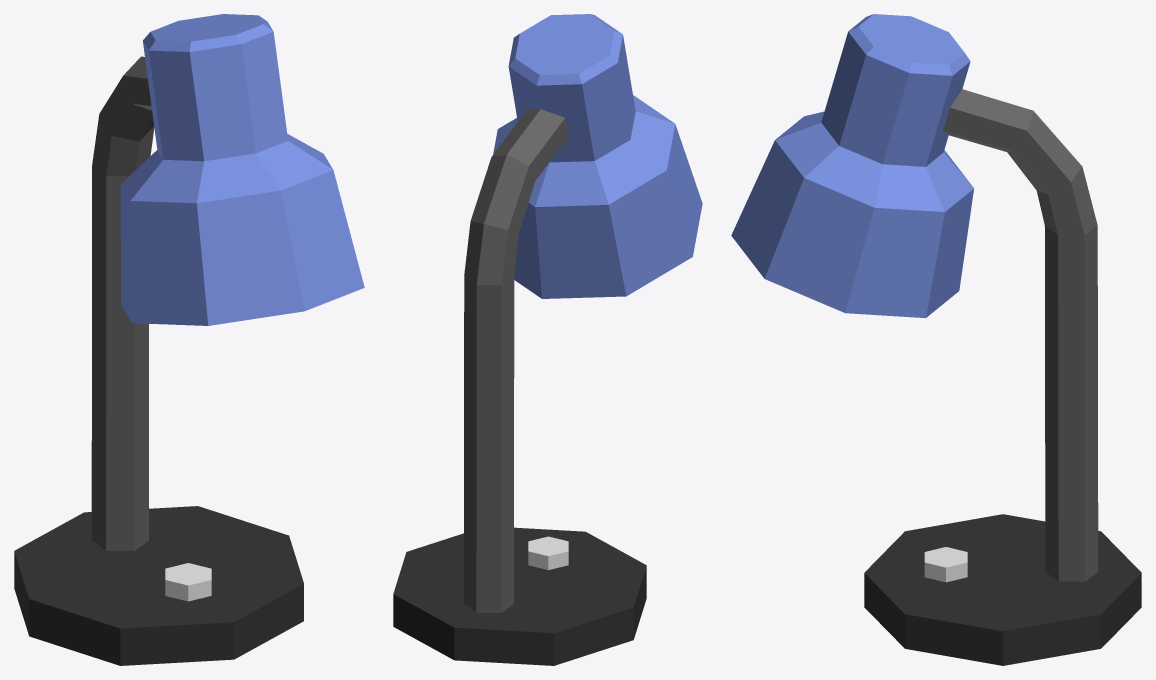
The model's file is lamp.fbx.
The picture shows the model from 3 angles, left to right: view 1: azimuth 30°, elevation 25°; view 2: azimuth 150°, elevation 25°; view 3: azimuth 270°, elevation 25°; orthographic projection. The views are drawn at different scales.
Visible parts, largest first — view 1: Cylinder01; view 2: Cylinder01; view 3: Cylinder01.
Part boxes in pixels (x1,y1,x2,y2): Cylinder01: (14,14,364,665); Cylinder01: (393,14,702,665); Cylinder01: (731,14,1141,665).
Size of the model in its own units: 88.82 by 205 by 131.
